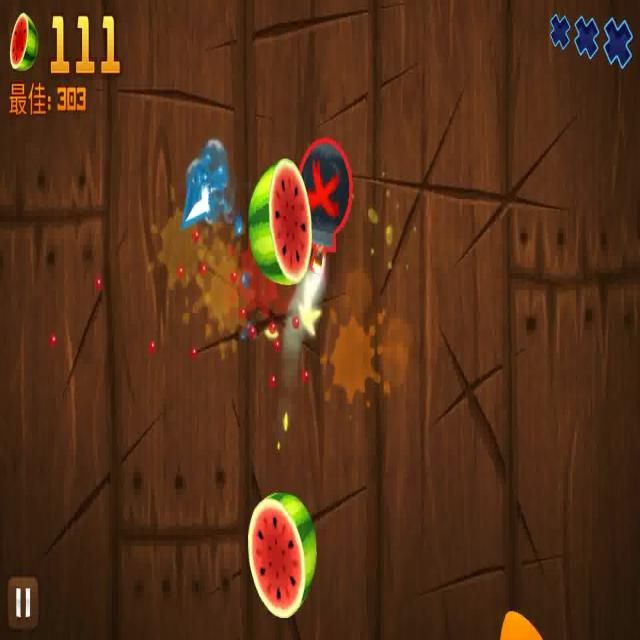bomb: (300, 136, 352, 268)
fruit: (246, 494, 314, 618), (248, 162, 313, 285), (496, 606, 543, 640)
